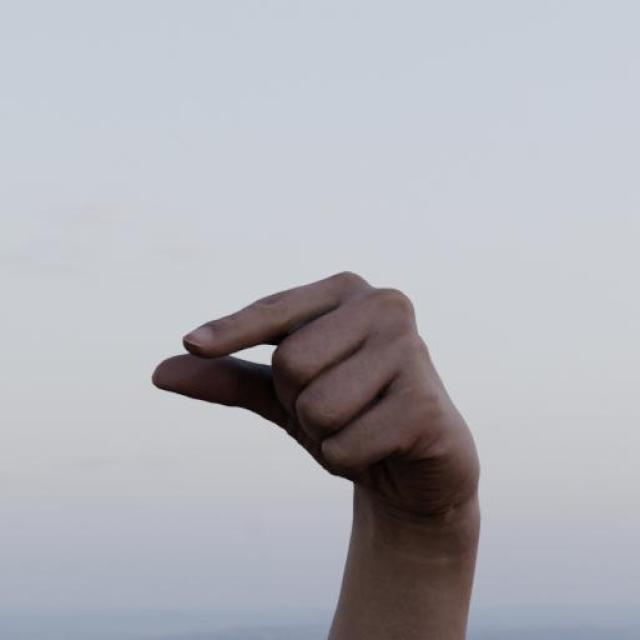G: (148, 265, 486, 523)
